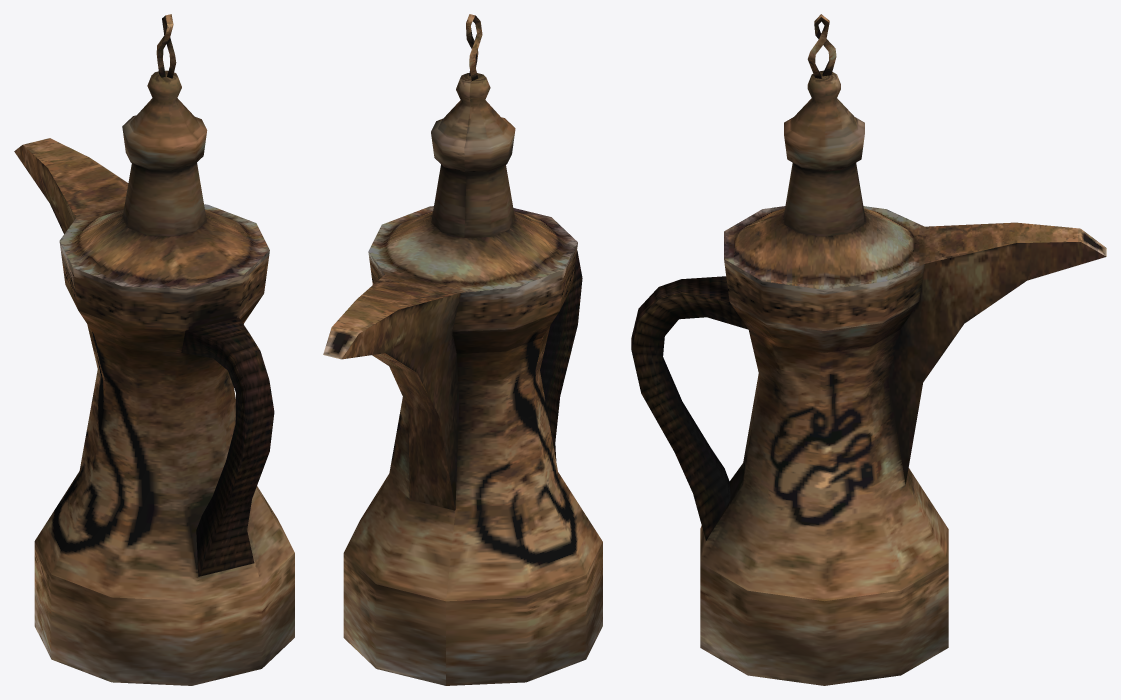
Rendered from arabic_carafe.dae.
3 views of the same model, side by side, from view 1: azimuth 30°, elevation 25°; view 2: azimuth 150°, elevation 25°; view 3: azimuth 270°, elevation 25° (orthographic).
Parts seen in each view (by area): view 1: polySurface1; view 2: polySurface1; view 3: polySurface1.
Boxes of the visible parts, box(x1,y1,x2,y2) form: polySurface1: box(14, 14, 294, 685); polySurface1: box(323, 14, 602, 685); polySurface1: box(631, 14, 1106, 685).
Size of the model in its own units: 0.1833 by 0.4774 by 0.3335.
1 material, 1 textured.
